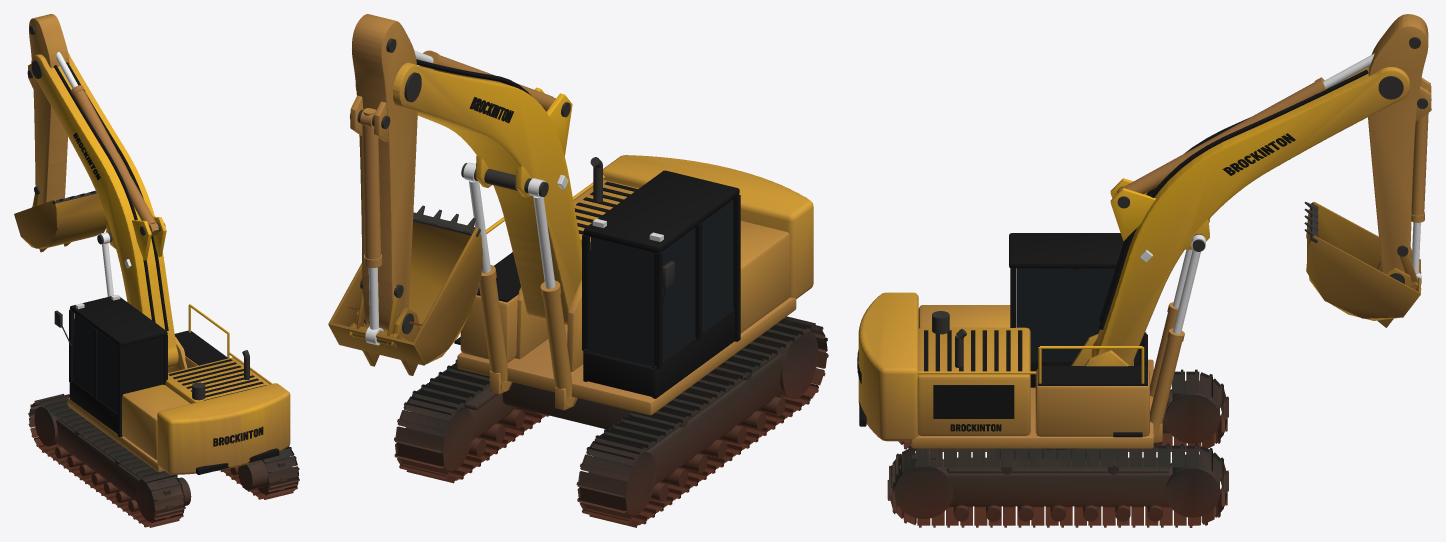
The model's file is excavator.glb.
3 views of the same model, side by side, from view 1: azimuth 30°, elevation 25°; view 2: azimuth 150°, elevation 25°; view 3: azimuth 270°, elevation 25° (orthographic). The views are drawn at different scales.
Visible parts, largest first — view 1: UpperBody, Undercarriage, BoomMesh, CabFrame, StickMesh, BucketMesh, CabGlass, UpperTrim, stick_cyl_0_barrel, BoomHoses, Exhaust, boom_cyl_0_rod (+3 smaller); view 2: Undercarriage, UpperBody, BoomMesh, CabFrame, CabGlass, StickMesh, BucketMesh, bkt_cyl_0_barrel, boom_cyl_0_rod (×2), boom_cyl_0_barrel, boom_cyl_1_barrel, UpperTrim (+7 smaller); view 3: Undercarriage, UpperBody, BoomMesh, StickMesh, BucketMesh, CabGlass, UpperTrim, CabFrame, stick_cyl_0_barrel, BoomHoses, boom_cyl_1_barrel, bkt_cyl_0_barrel (+6 smaller).
Part boxes in pixels (x1,y1,x2,y2): UpperBody: (67,336,290,474); Undercarriage: (28,394,299,527); BoomMesh: (31,52,178,368); CabFrame: (69,296,167,437); StickMesh: (28,14,69,205); BucketMesh: (14,193,106,252); CabGlass: (73,313,118,413); UpperTrim: (168,330,279,474); stick_cyl_0_barrel: (71,85,159,235); BoomHoses: (53,62,168,330); Exhaust: (54,310,249,400); boom_cyl_0_rod: (99,232,113,296); Undercarriage: (394,316,828,527); UpperBody: (457,155,813,415); BoomMesh: (355,62,581,324); CabFrame: (582,170,740,398); CabGlass: (587,200,733,366); StickMesh: (350,14,417,330); BucketMesh: (328,221,482,375); bkt_cyl_0_barrel: (360,108,382,267); boom_cyl_0_rod (×2): (463,162,555,288); boom_cyl_0_barrel: (540,280,574,406); boom_cyl_1_barrel: (479,264,510,391); UpperTrim: (454,181,637,344); Undercarriage: (887,369,1228,527); UpperBody: (858,292,1162,448); BoomMesh: (1091,67,1409,365); StickMesh: (1368,14,1431,273); BucketMesh: (1306,201,1420,327); CabGlass: (1016,268,1139,360); UpperTrim: (859,330,1147,437); CabFrame: (1009,233,1147,387); stick_cyl_0_barrel: (1114,77,1326,195); BoomHoses: (1099,69,1368,329); boom_cyl_1_barrel: (1150,328,1184,440); bkt_cyl_0_barrel: (1411,88,1428,222).
Size of the model in its own units: 2.99 by 7.07 by 7.81.
